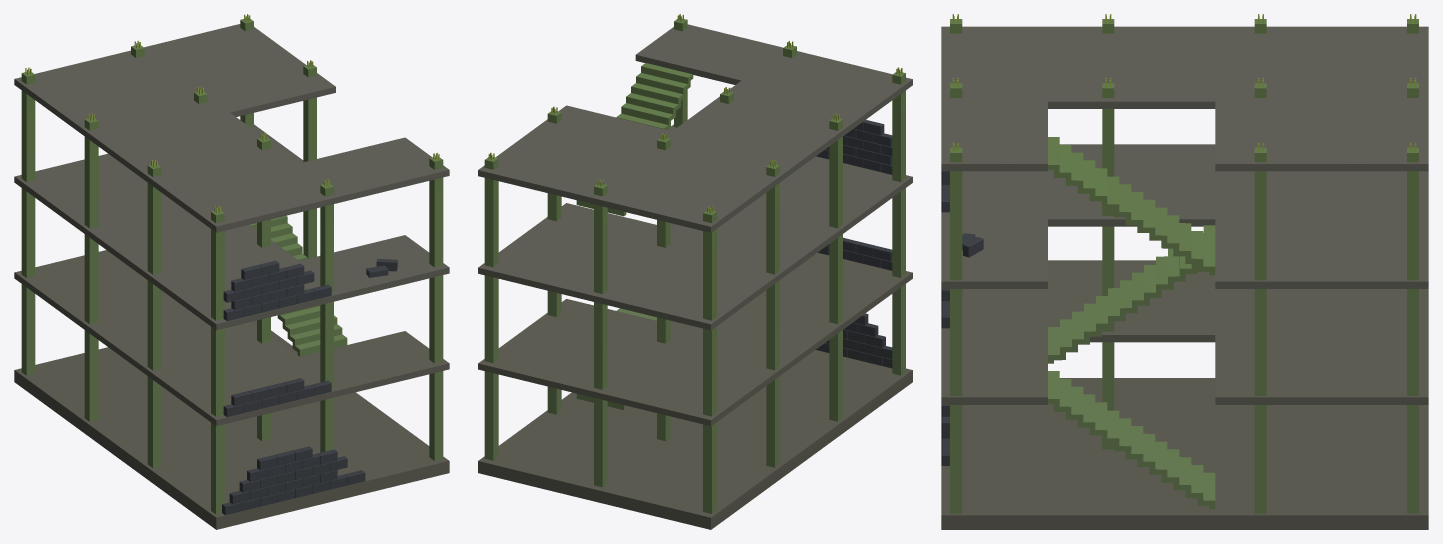
The model's file is Construction_02.fbx.
3 renders of one model, left to right at view 1: azimuth 30°, elevation 25°; view 2: azimuth 150°, elevation 25°; view 3: azimuth 270°, elevation 25°, orthographic. The views are drawn at different scales.
Parts seen in each view (by area): view 1: Construction_02; view 2: Construction_02; view 3: Construction_02.
Part boxes in pixels (box(x1,y1,x2,y2)): Construction_02: box(14, 14, 449, 529); Construction_02: box(478, 14, 912, 529); Construction_02: box(941, 14, 1428, 529).
Size of the model in its own units: 8 by 10.38 by 12.
